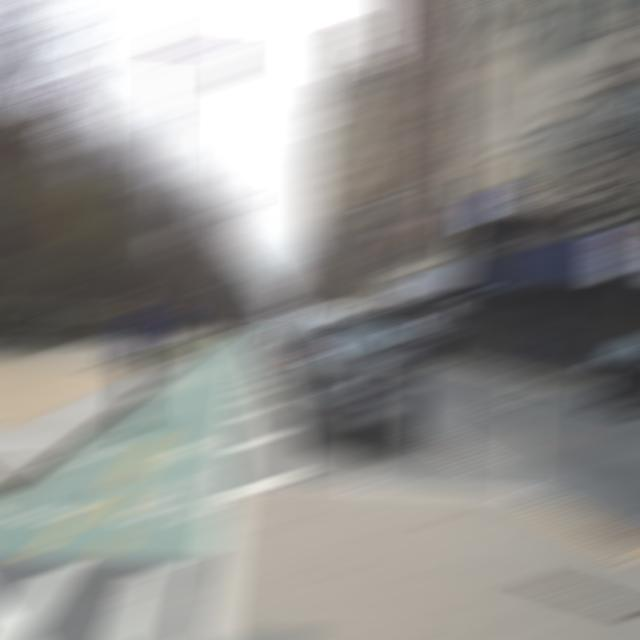Without Helmet: (116, 286, 150, 314)
